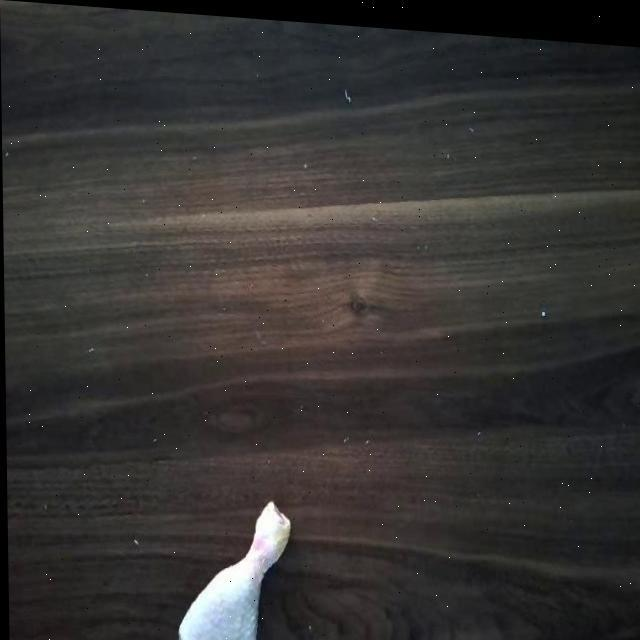leg: (180, 490, 302, 640)
